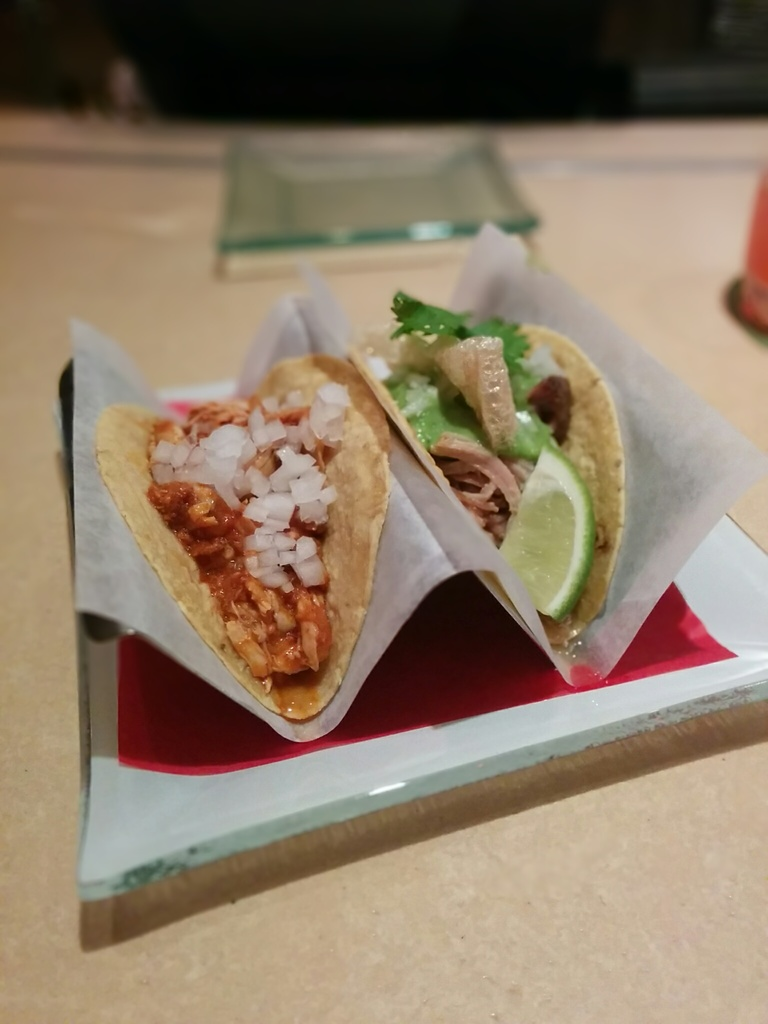taco: (94, 352, 394, 721), (348, 310, 633, 648)
